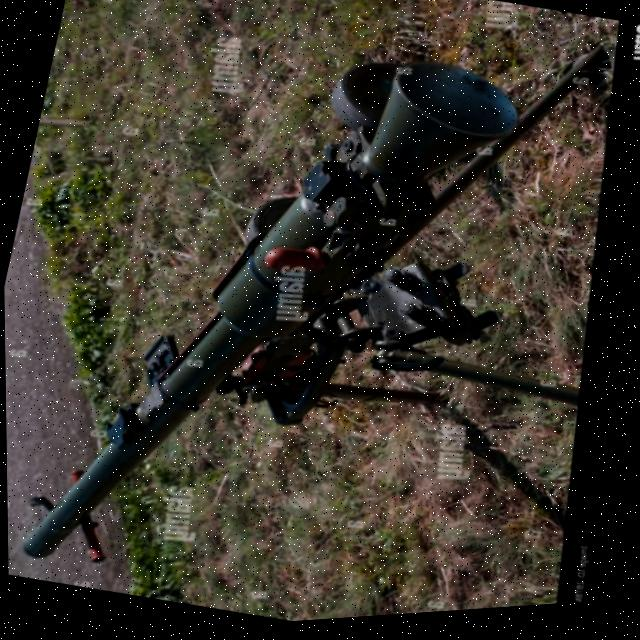rocket: (0, 0, 584, 640)
